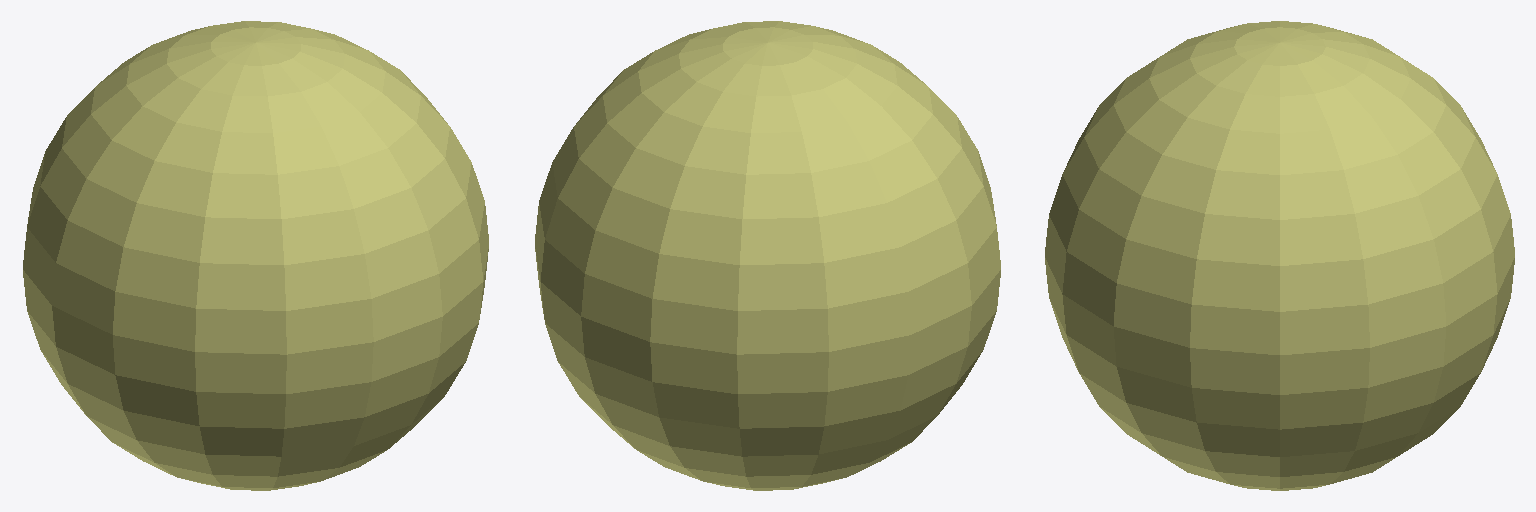
File: Sphere_msh_yellow.obj
3 renders of one model, left to right at view 1: azimuth 30°, elevation 25°; view 2: azimuth 150°, elevation 25°; view 3: azimuth 270°, elevation 25°, orthographic.
Visible parts, largest first — view 1: Sphere_msh; view 2: Sphere_msh; view 3: Sphere_msh.
Boxes of the visible parts, <box> form: Sphere_msh: <box>23,21,488,490</box>; Sphere_msh: <box>535,21,1000,490</box>; Sphere_msh: <box>1045,21,1514,490</box>.
Bounding box in the file's own units: 39.61 × 39.61 × 39.61.